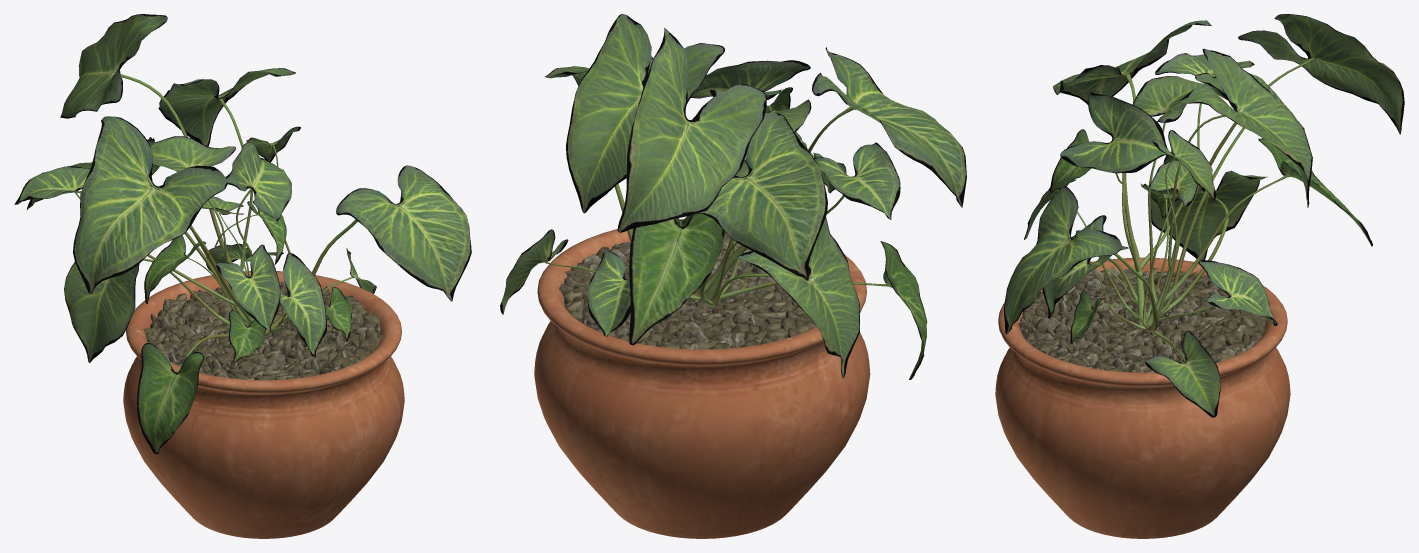
File: potted_plant_02.glb
3 views of the same model, side by side, from view 1: azimuth 30°, elevation 25°; view 2: azimuth 150°, elevation 25°; view 3: azimuth 270°, elevation 25° (orthographic). The views are drawn at different scales.
Visible parts, largest first — view 1: potted_plant_02_leaves, potted_plant_02_pot; view 2: potted_plant_02_leaves, potted_plant_02_pot; view 3: potted_plant_02_pot, potted_plant_02_leaves.
Boxes of the visible parts, x1,y1,x2,y2 form: potted_plant_02_leaves: [14, 14, 471, 454]; potted_plant_02_pot: [123, 271, 404, 538]; potted_plant_02_leaves: [500, 14, 966, 379]; potted_plant_02_pot: [534, 219, 870, 538]; potted_plant_02_pot: [995, 257, 1290, 538]; potted_plant_02_leaves: [1004, 14, 1404, 417].
Size of the model in its own units: 0.7012 by 0.8412 by 0.6574.
Materials: 2 (2 with a texture image).
